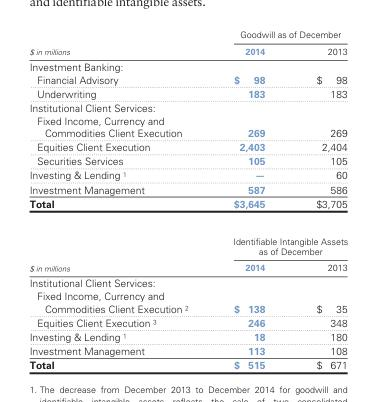table: (28, 28, 347, 370)
table column: (28, 28, 210, 370), (210, 28, 289, 370), (289, 28, 347, 370)
table column header: (28, 28, 347, 58)
table projected row header: (28, 274, 347, 289), (28, 58, 347, 72), (28, 100, 347, 113)
table row: (28, 222, 347, 258), (28, 195, 347, 222), (28, 113, 347, 139), (28, 289, 347, 315), (28, 42, 347, 58), (28, 258, 347, 274), (28, 274, 347, 289), (28, 28, 347, 42), (28, 58, 347, 72), (28, 72, 347, 86), (28, 86, 347, 100), (28, 139, 347, 153), (28, 153, 347, 167), (28, 167, 347, 181), (28, 181, 347, 195), (28, 315, 347, 329), (28, 329, 347, 343), (28, 343, 347, 357), (28, 100, 347, 113), (28, 357, 347, 370)
table spanning cell: (28, 28, 210, 58), (210, 222, 347, 258), (210, 28, 347, 42)
